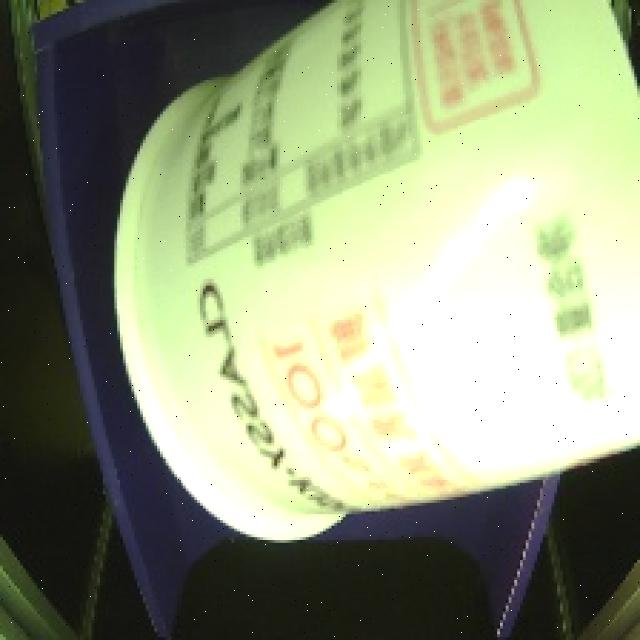cups: (100, 3, 640, 566)
